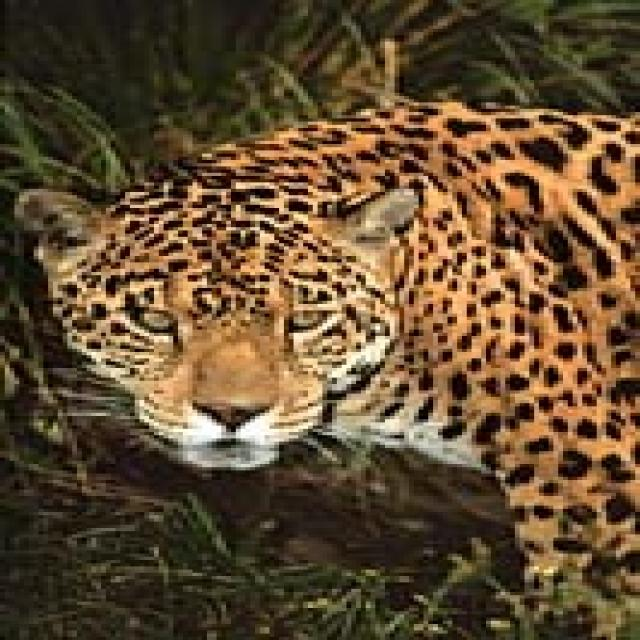Leopard: (5, 102, 630, 634)
